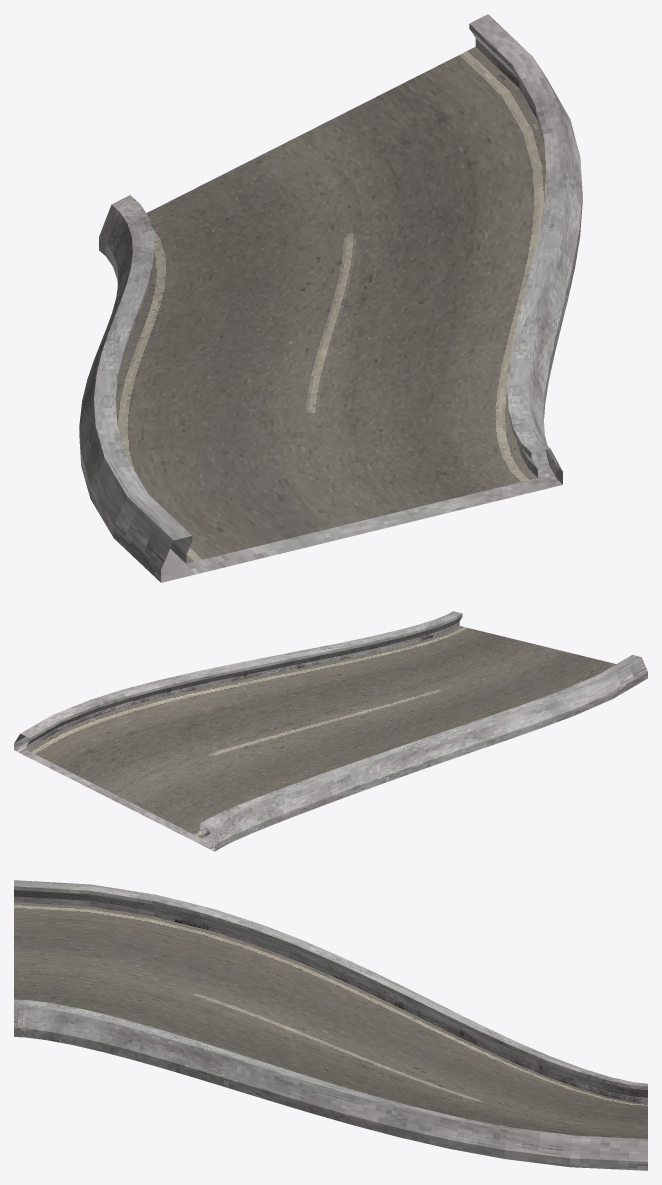
File: road-Chicane-Flat-HalfBankedLeft-Down1-Right1-Size2.glb
3 views of the same model, one above another, from view 1: azimuth 30°, elevation 25°; view 2: azimuth 150°, elevation 25°; view 3: azimuth 270°, elevation 25° (orthographic). The views are drawn at different scales.
Parts seen in each view (by area): view 1: road-Chicane-Flat-HalfBankedLeft-Down1-Right1-Size2; view 2: road-Chicane-Flat-HalfBankedLeft-Down1-Right1-Size2; view 3: road-Chicane-Flat-HalfBankedLeft-Down1-Right1-Size2.
Boxes of the visible parts, x1,y1,x2,y2 form: road-Chicane-Flat-HalfBankedLeft-Down1-Right1-Size2: (79, 14, 582, 582); road-Chicane-Flat-HalfBankedLeft-Down1-Right1-Size2: (14, 611, 647, 851); road-Chicane-Flat-HalfBankedLeft-Down1-Right1-Size2: (14, 880, 647, 1170).
Bounding box in the file's own units: 2 × 0.3437 × 2.
Materials: 2 (2 with a texture image).
